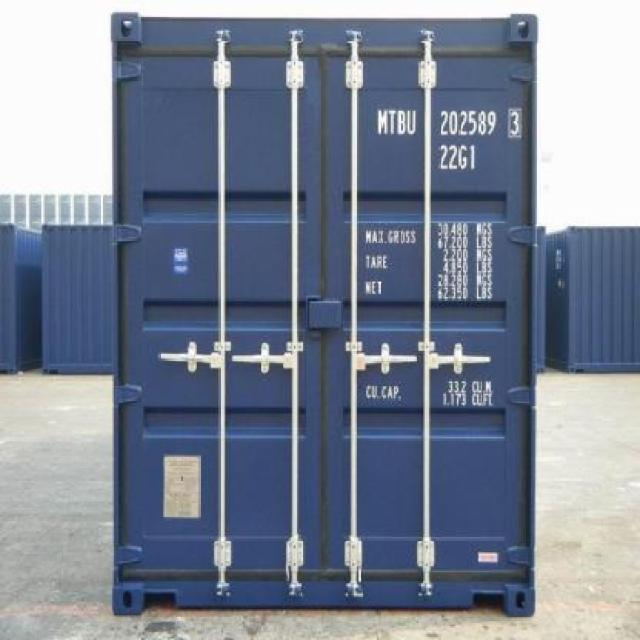ISO: (436, 145, 478, 171)
container_number: (374, 109, 522, 138)
